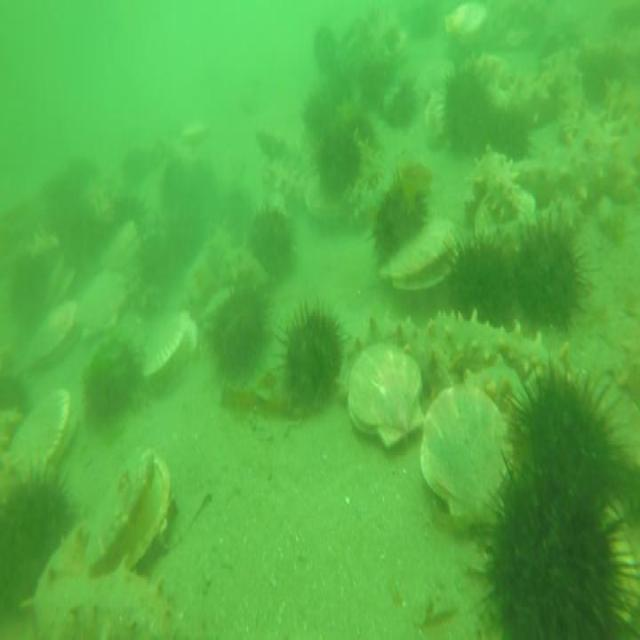echinus: (474, 458, 620, 640), (510, 354, 619, 518), (1, 472, 70, 614), (508, 215, 583, 338), (276, 305, 348, 423), (442, 230, 514, 328), (309, 99, 372, 204), (82, 338, 143, 427), (214, 284, 268, 384), (440, 63, 493, 161), (374, 171, 430, 256), (246, 208, 296, 284), (9, 253, 52, 327), (158, 158, 199, 228), (139, 231, 182, 292), (0, 351, 34, 419), (109, 185, 150, 235), (388, 76, 420, 133), (311, 17, 339, 79)
holothurian: (428, 300, 588, 400), (23, 558, 170, 640), (541, 112, 635, 204), (352, 311, 452, 386), (492, 65, 572, 136), (473, 142, 524, 234), (463, 354, 531, 414), (184, 231, 227, 308), (256, 153, 314, 209), (252, 121, 314, 170), (220, 240, 268, 289), (348, 139, 374, 221)
scallop: (423, 381, 515, 532), (84, 439, 174, 574), (347, 337, 428, 452), (11, 380, 77, 510), (376, 216, 460, 294), (142, 304, 198, 398), (25, 295, 81, 370), (473, 186, 542, 245), (81, 268, 128, 339), (442, 0, 490, 44)
